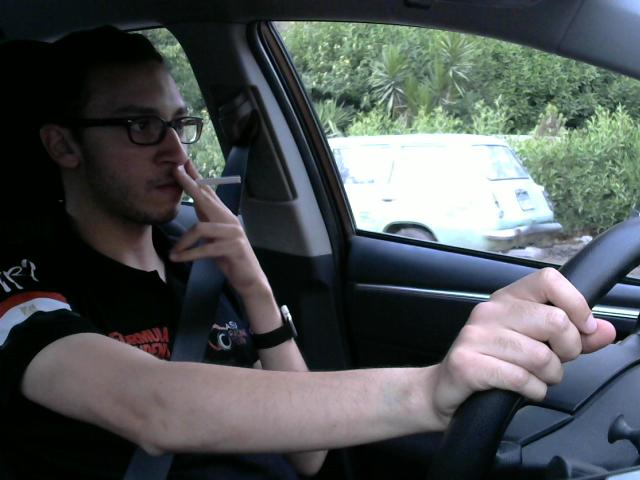Smoking: (175, 167, 246, 197)
